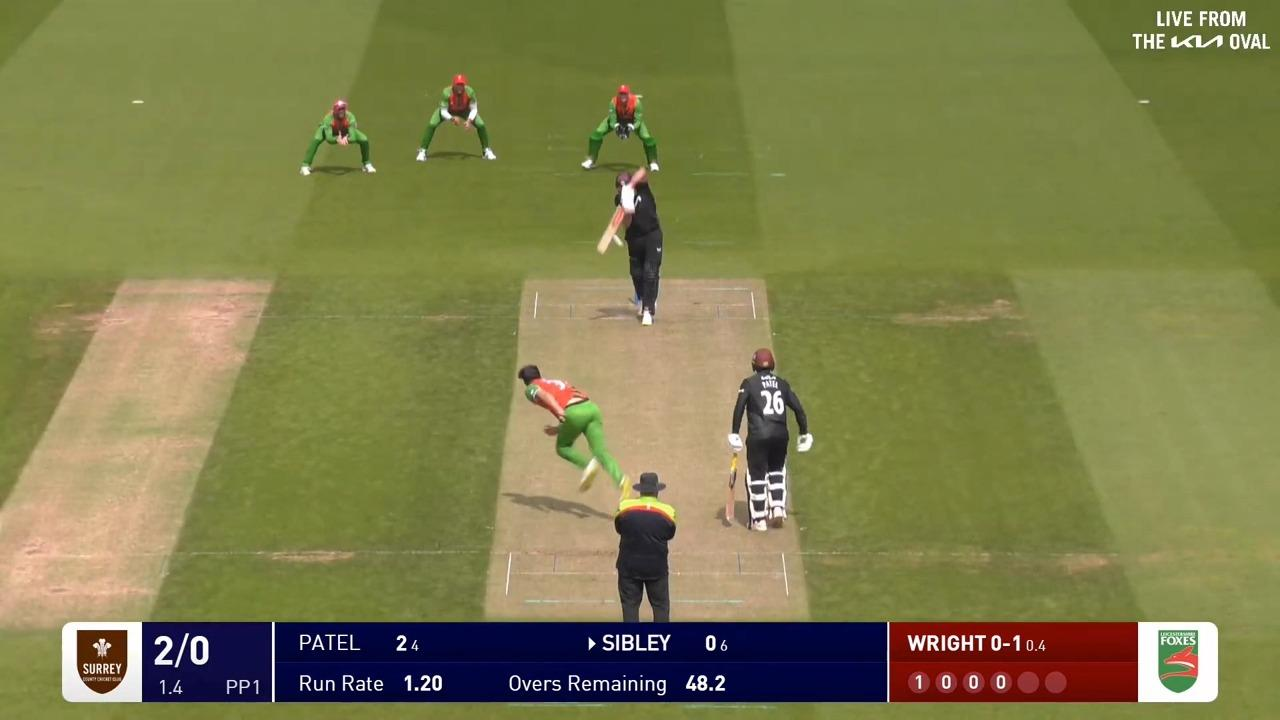sports ball: (612, 234, 625, 248)
